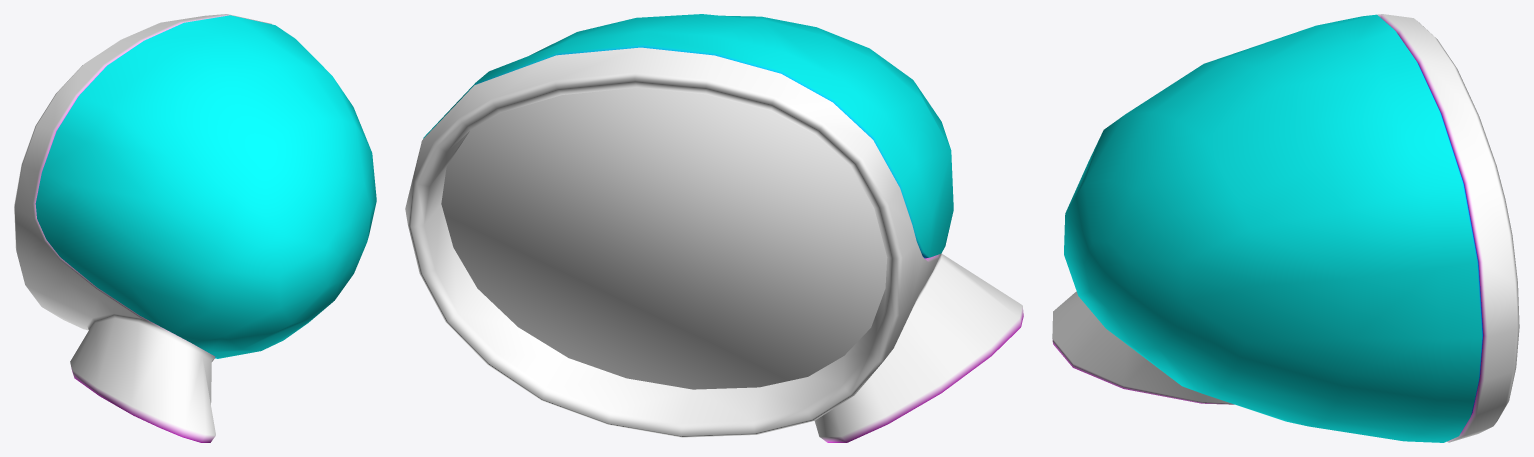
Rendered from Car_Mini_CountrymanJCW_2017_MirrorL_SetA.fbx.
3 renders of one model, left to right at view 1: azimuth 30°, elevation 25°; view 2: azimuth 150°, elevation 25°; view 3: azimuth 270°, elevation 25°, orthographic. The views are drawn at different scales.
Visible parts, largest first — view 1: MirrorL 6; view 2: MirrorL 6; view 3: MirrorL 6.
Part boxes in pixels (x1=…): MirrorL 6: x1=14, y1=14, x2=376, y2=442; MirrorL 6: x1=405, y1=14, x2=1023, y2=442; MirrorL 6: x1=1052, y1=14, x2=1519, y2=442.
Size of the model in its own units: 0.2024 by 0.1777 by 0.1887.
